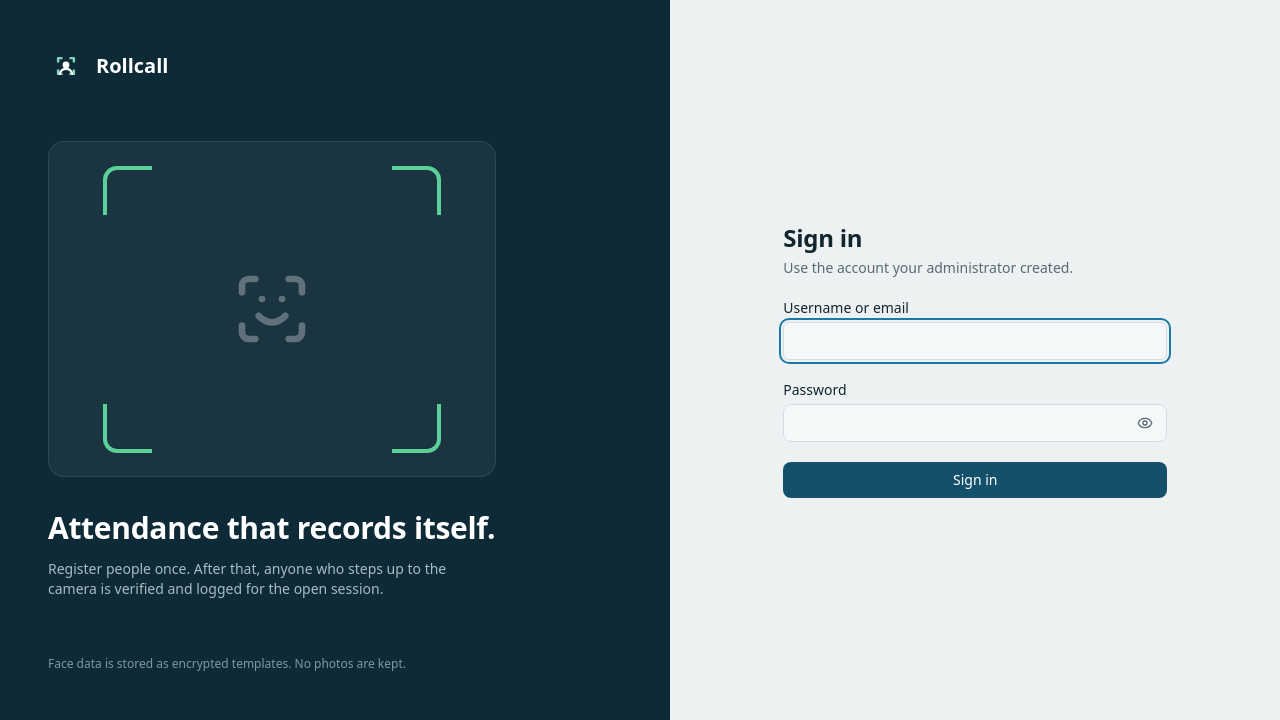
Test case: Login › shows rate-limit and network errors
The width and height of the screenshot is (1280, 720).
In the field labelled "Username or email": (975, 341) [783,322,1167,360], type "admin"
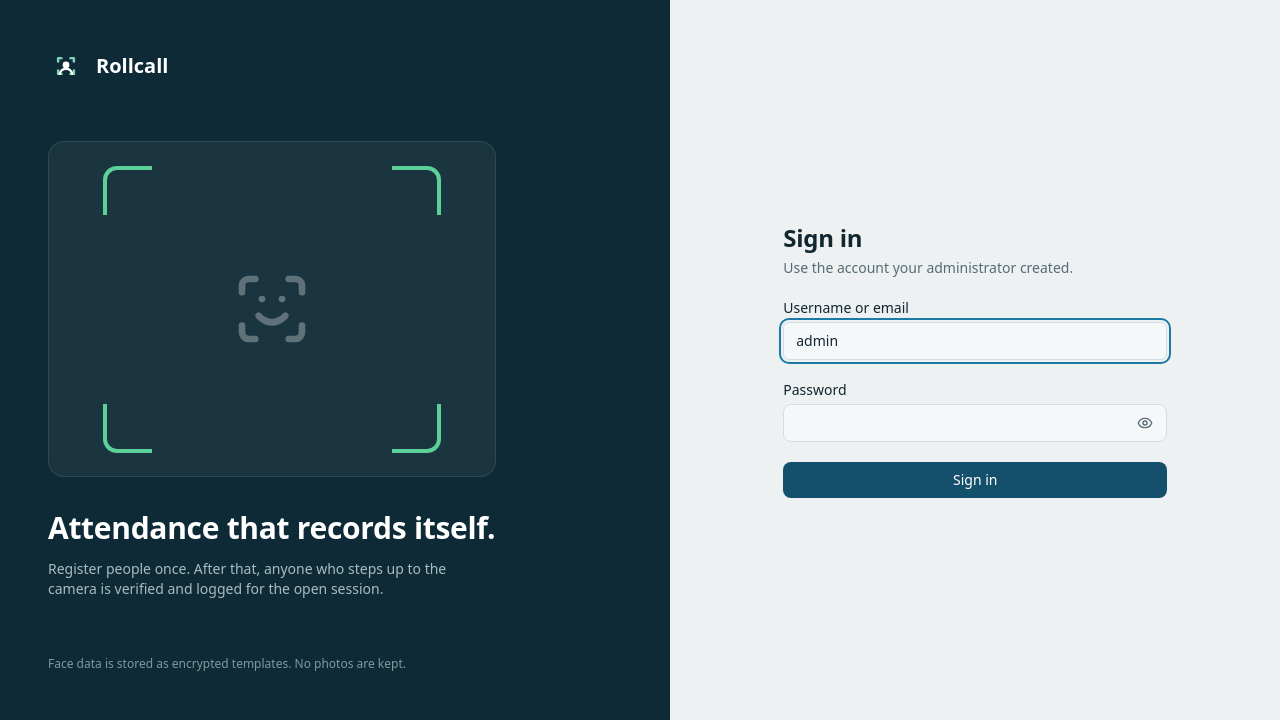
In the password field labelled "Password": (975, 423) [783,404,1167,442], type "x"
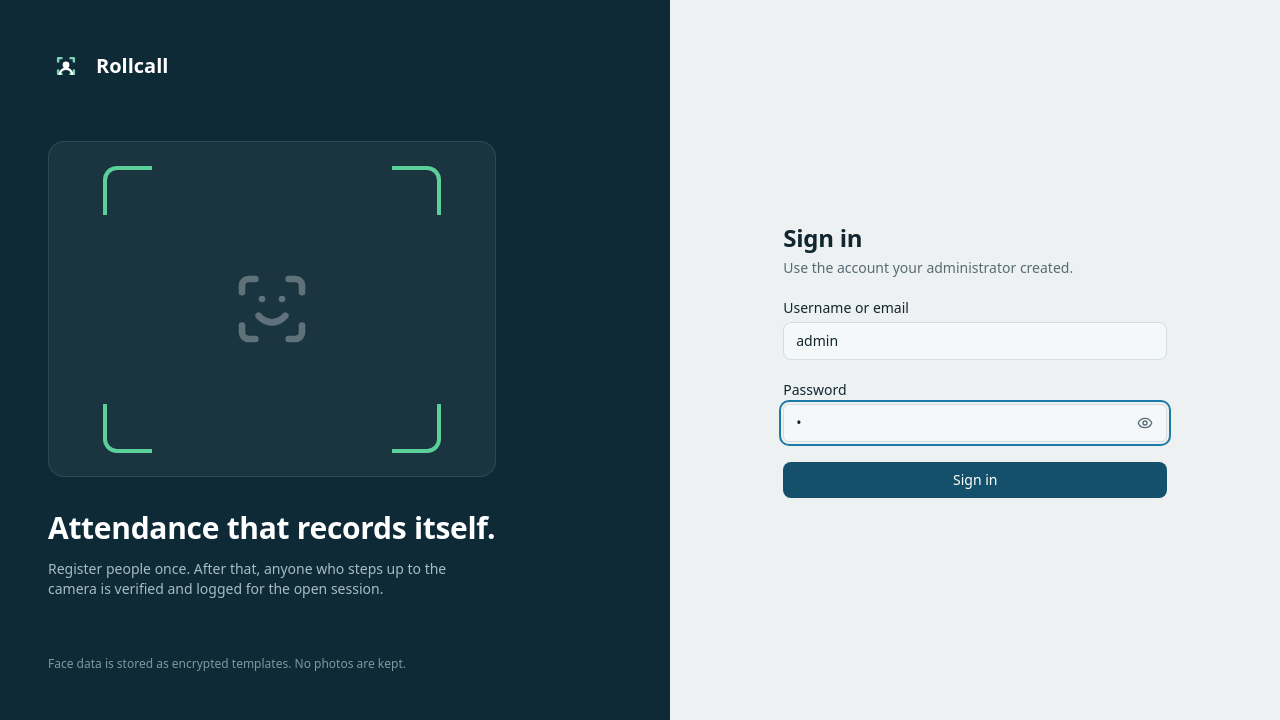
Click the button "Sign in": (975, 480) [783,462,1167,498]
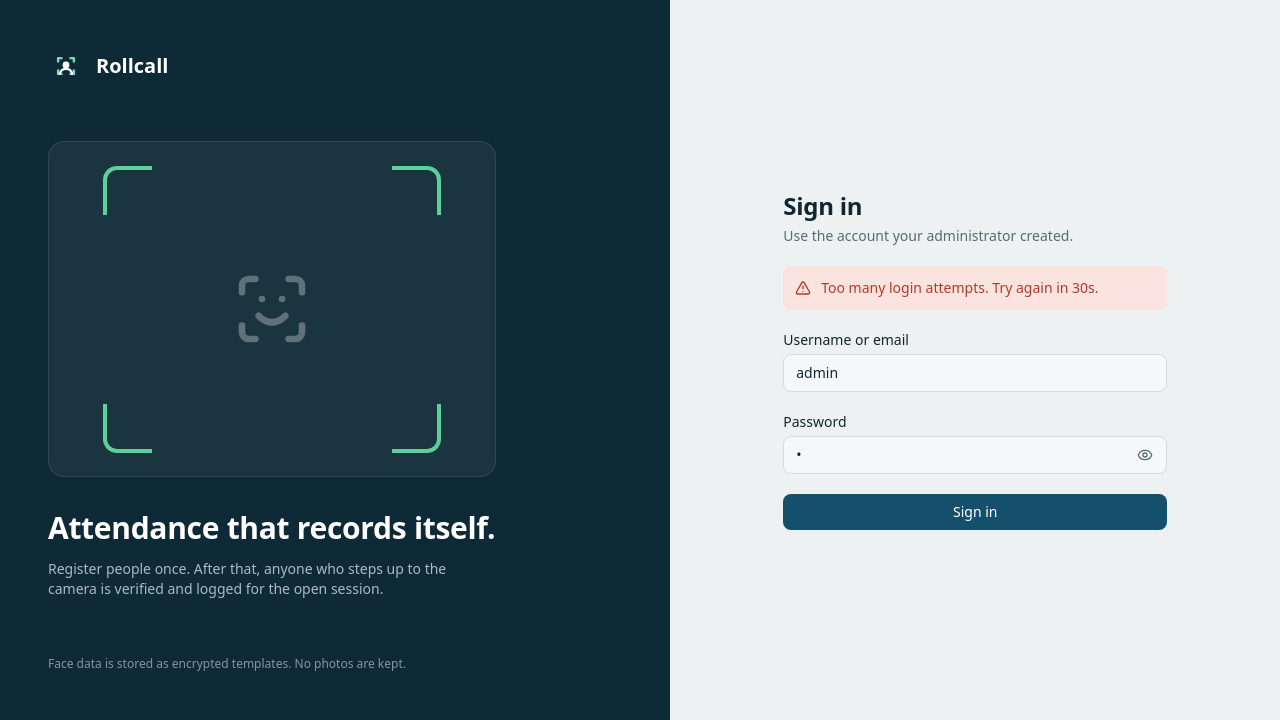
Now the text "Too many login attempts. Try again in 30s." is shown, box [821,278,1098,298]
Click the button "Sign in": (975, 512) [783,494,1167,530]
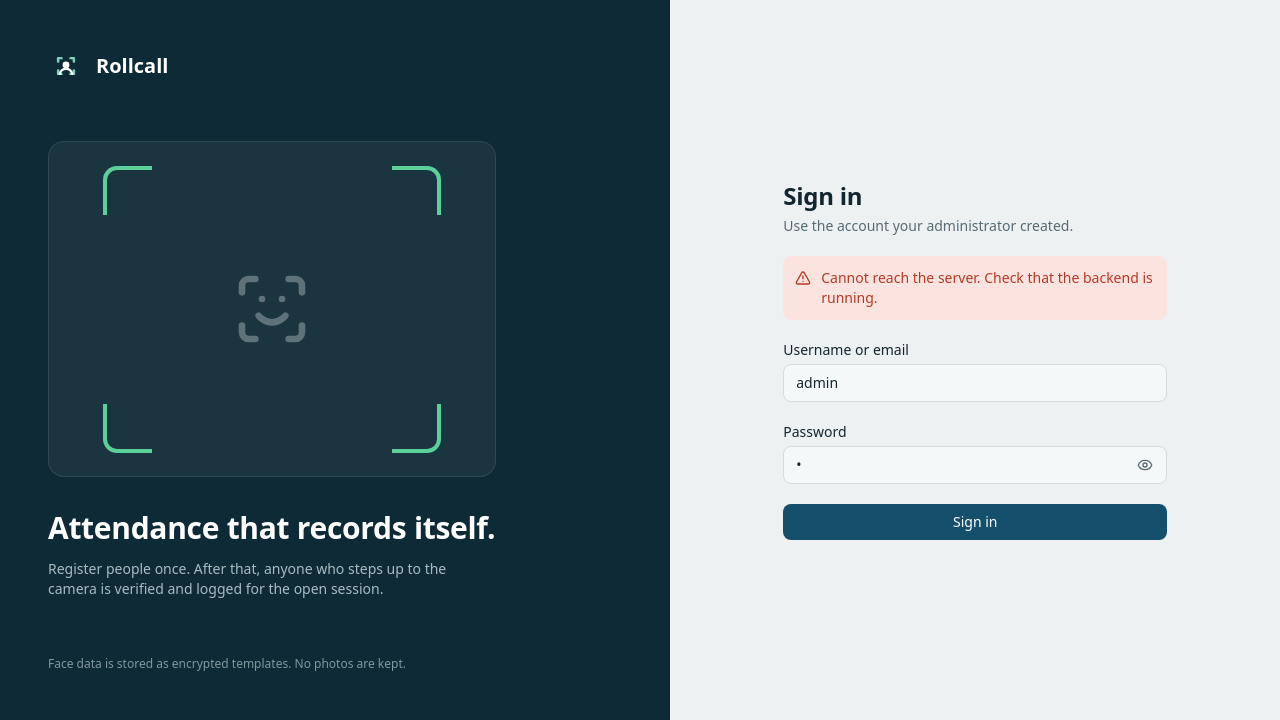
Now the text "Cannot reach the server. Check that the backend is running." is shown, box [821,268,1155,308]
